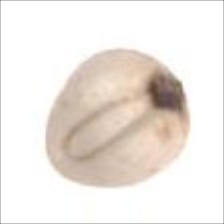L5: (64, 93, 154, 161), (147, 65, 190, 114), (41, 139, 66, 177)
L6: (43, 47, 191, 190)
